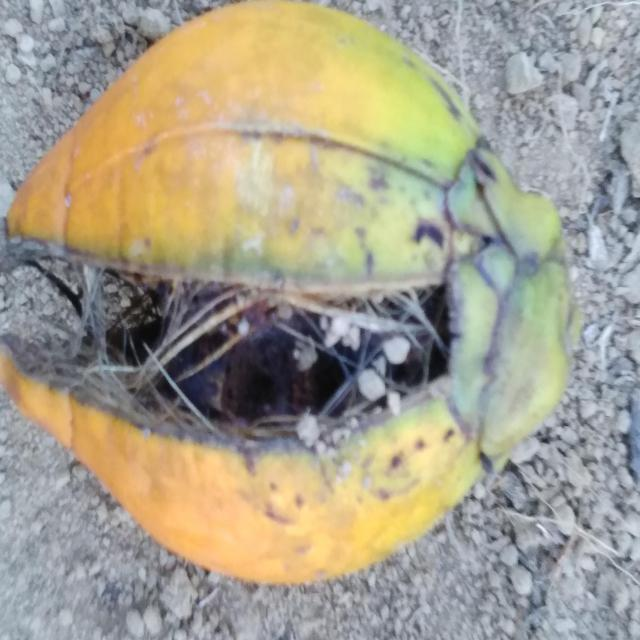damaged: (0, 1, 580, 583)
